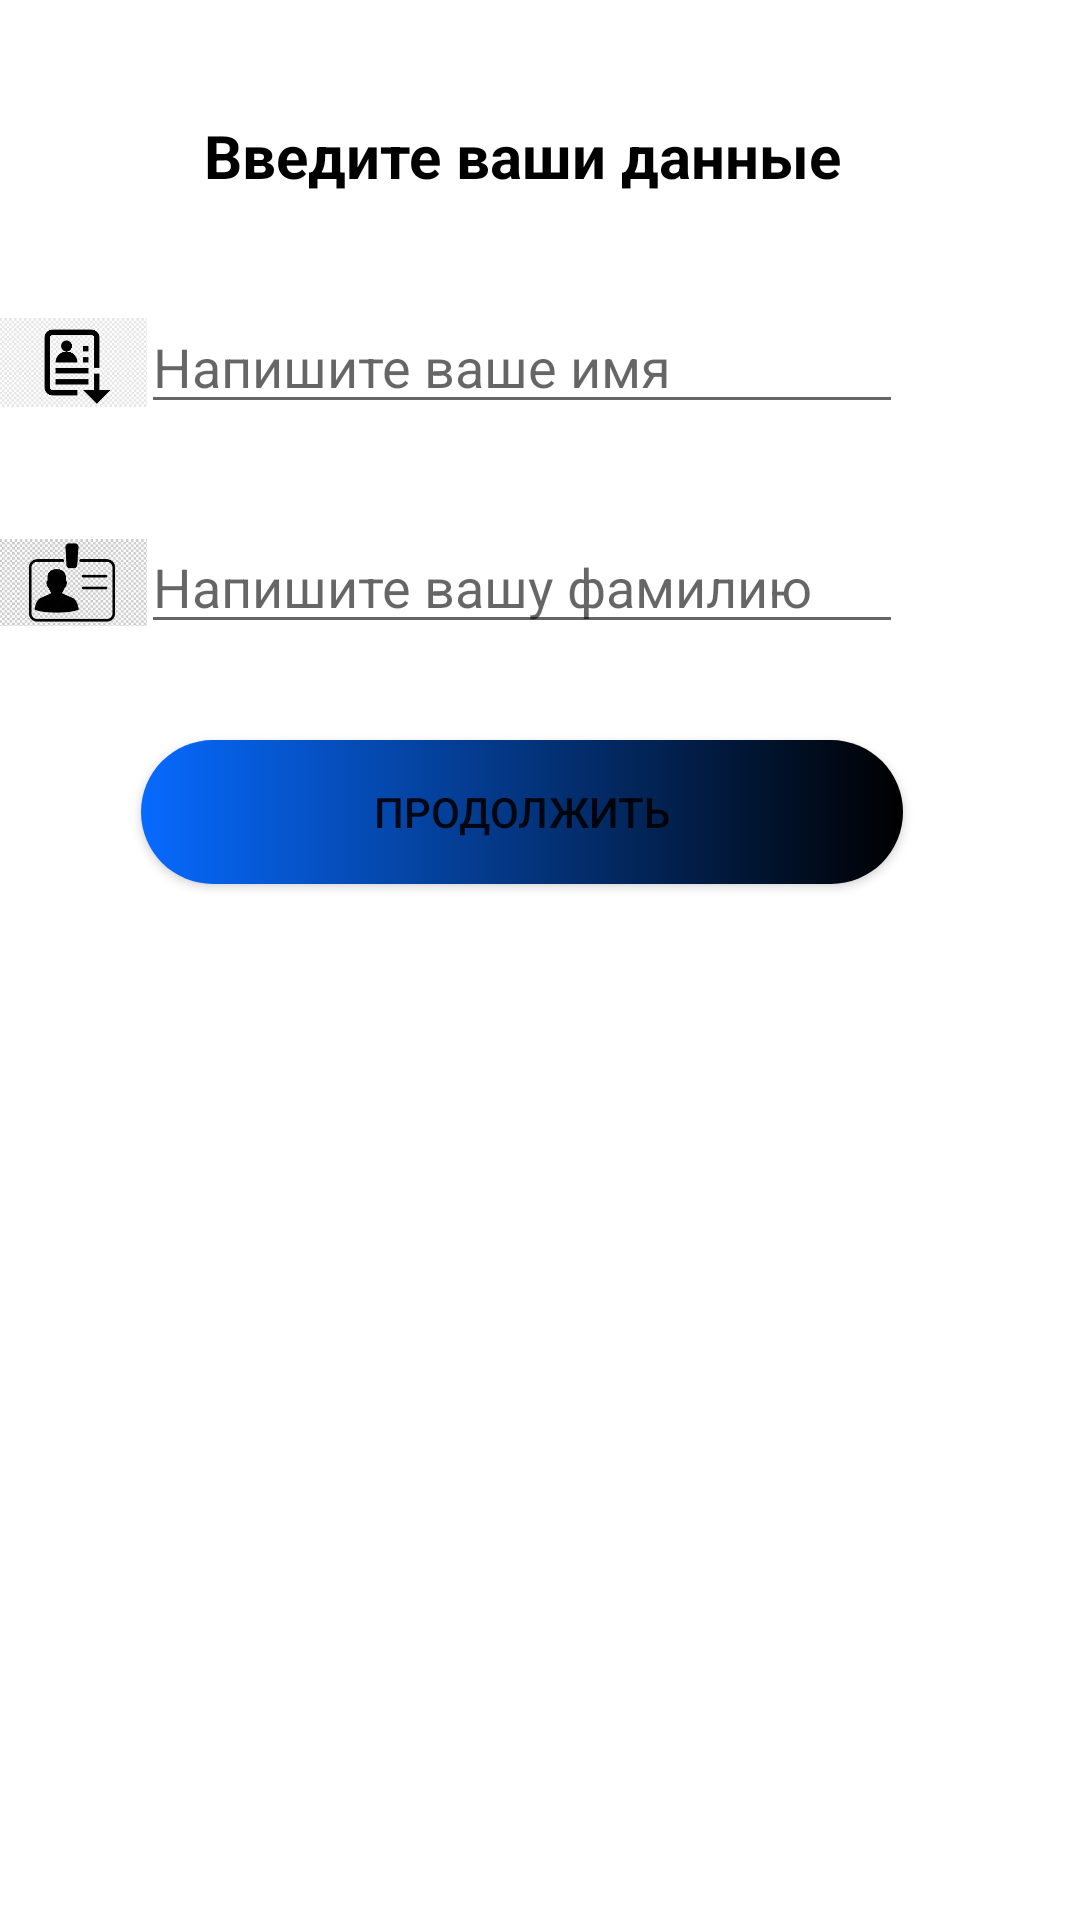

Point at icon controls on the screen. Image size 1080*1920, points as (x=x, y=y).
last name: (x=73, y=582)
